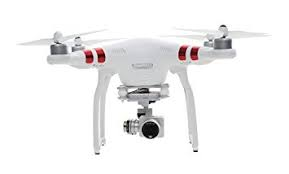Drone: (15, 16, 276, 159)
